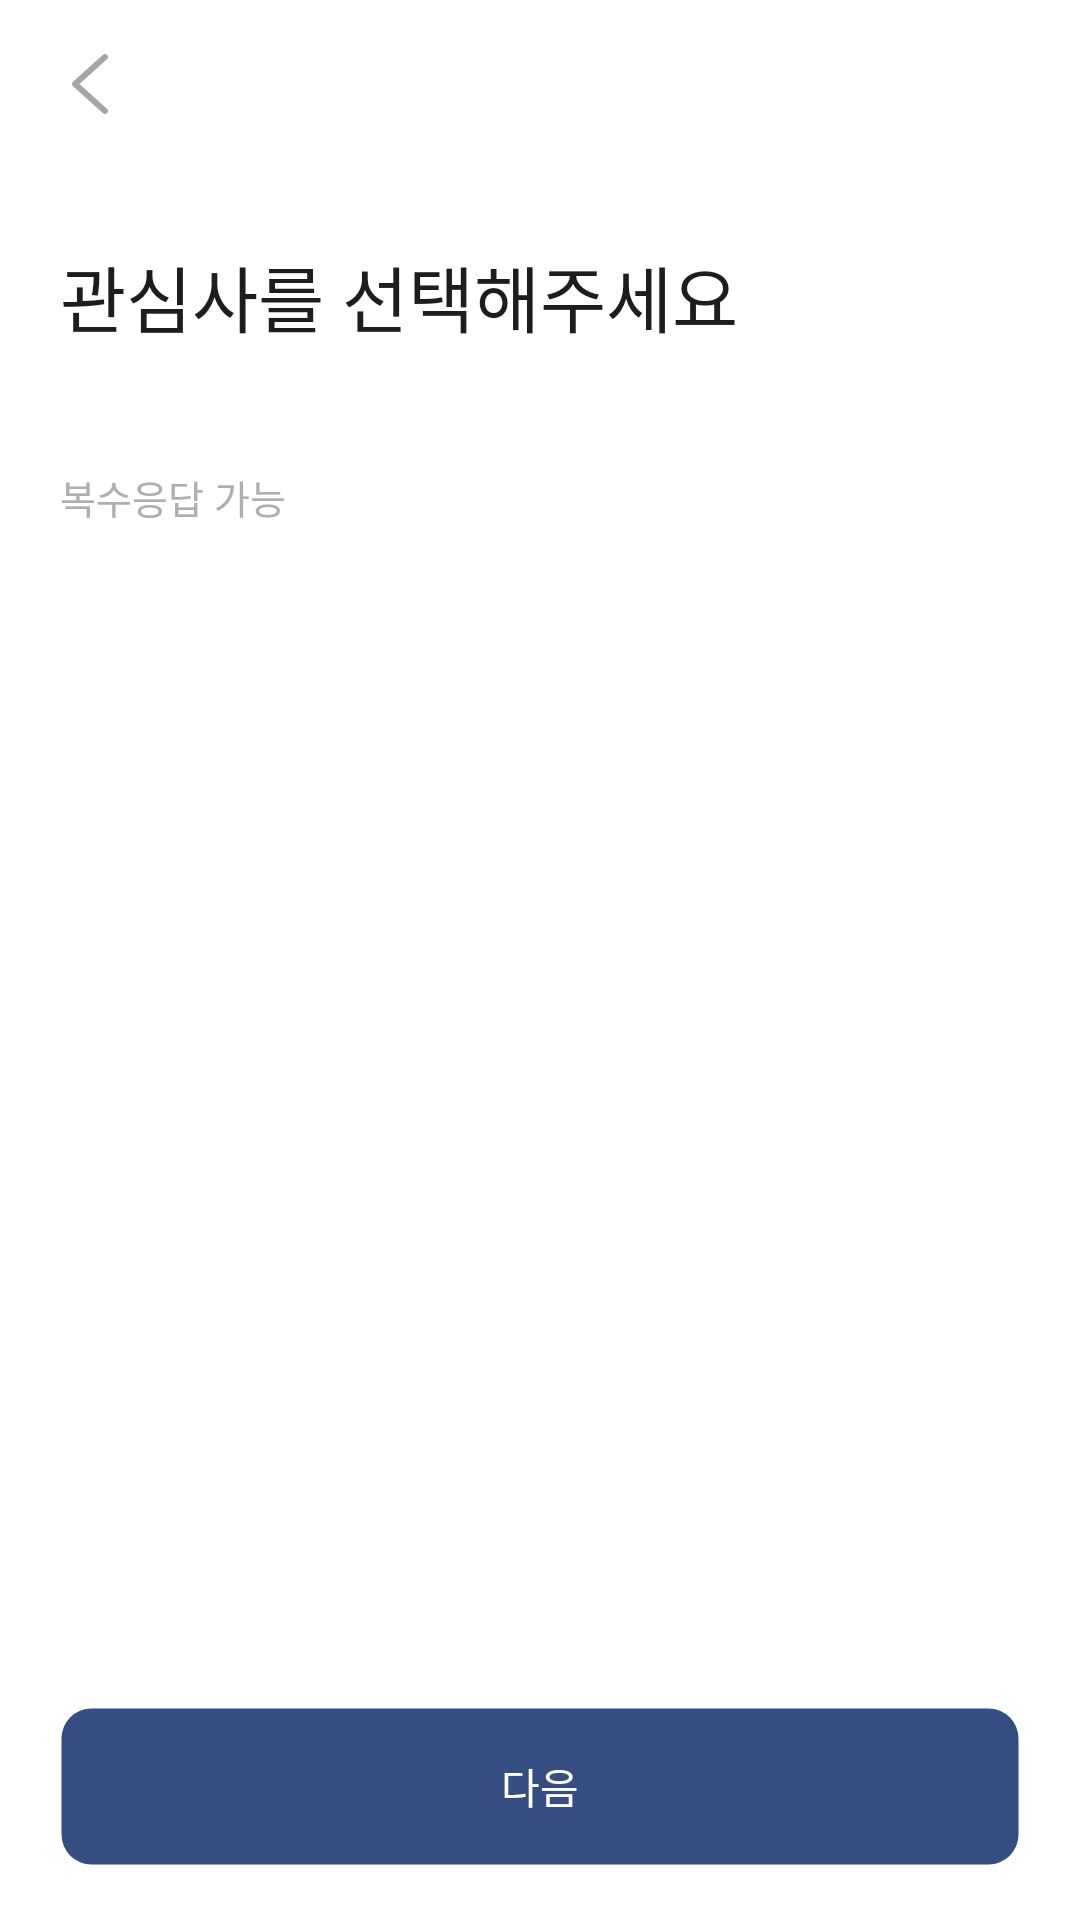

Where to tap for icons on this 1080 x 1920 app screen, as point (x, y):
뒤로가기 버튼: point (90, 84)
